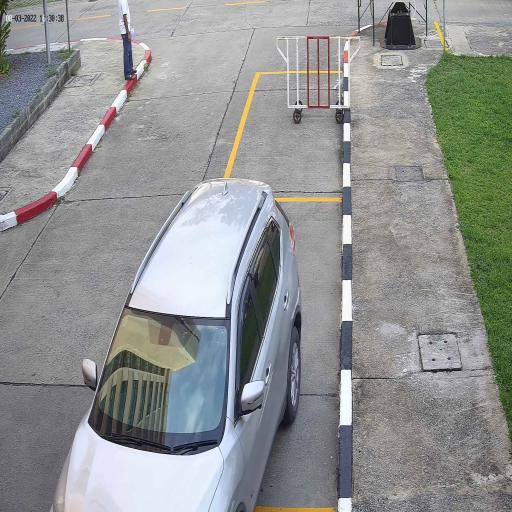car: (52, 177, 304, 512)
